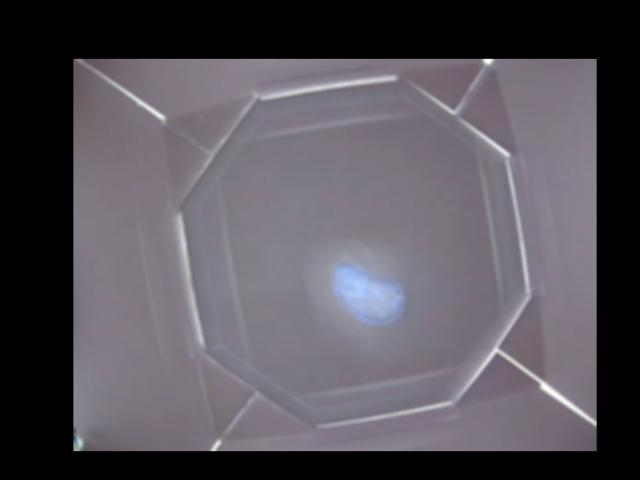Pebble: (335, 263, 408, 325)
